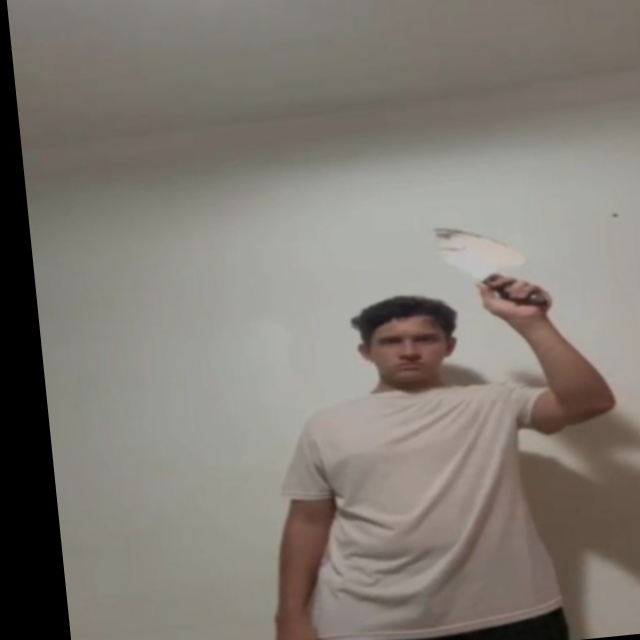Sharp-Object: (429, 219, 525, 272)
